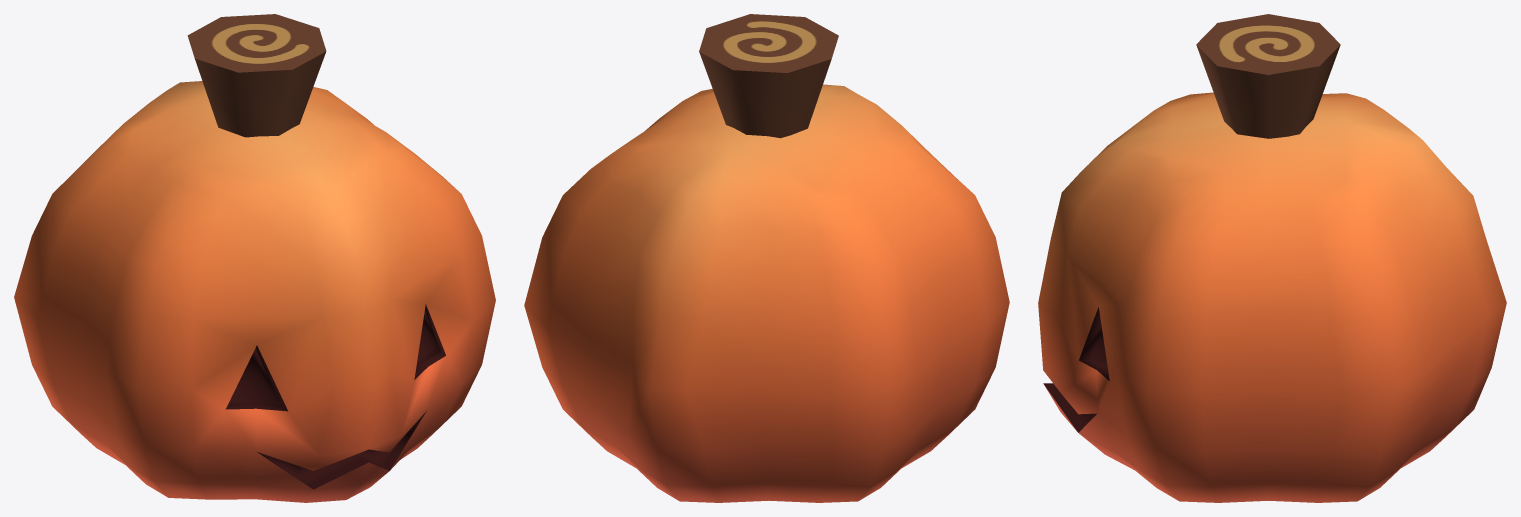
Rendered from Pumpkin7w7_Mask.fbx.
The picture shows the model from 3 angles, left to right: view 1: azimuth 30°, elevation 25°; view 2: azimuth 150°, elevation 25°; view 3: azimuth 270°, elevation 25°; orthographic projection.
Parts seen in each view (by area): view 1: Pumpkin7w7_Mask; view 2: Pumpkin7w7_Mask; view 3: Pumpkin7w7_Mask.
Boxes of the visible parts, x1,y1,x2,y2 form: Pumpkin7w7_Mask: [14, 14, 495, 502]; Pumpkin7w7_Mask: [524, 14, 1009, 502]; Pumpkin7w7_Mask: [1038, 14, 1506, 502].
Bounding box in the file's own units: 1065 × 1089 × 1173.
1 material, 1 textured.
